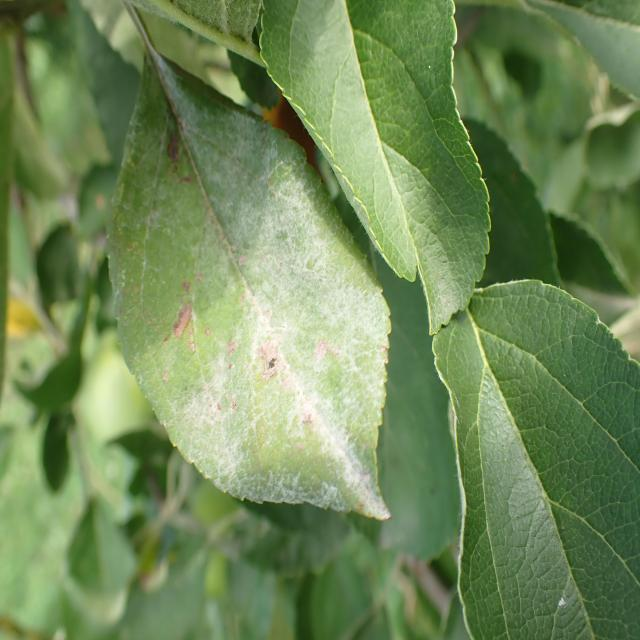Powdery_mildew: (111, 88, 395, 542)
